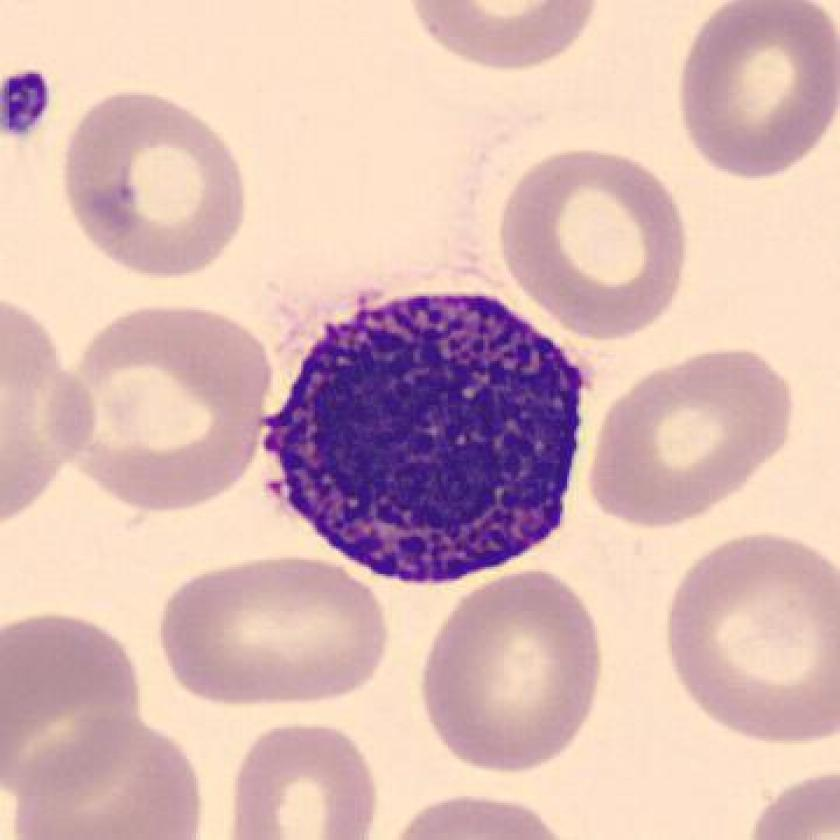basophil: (260, 276, 603, 598)
